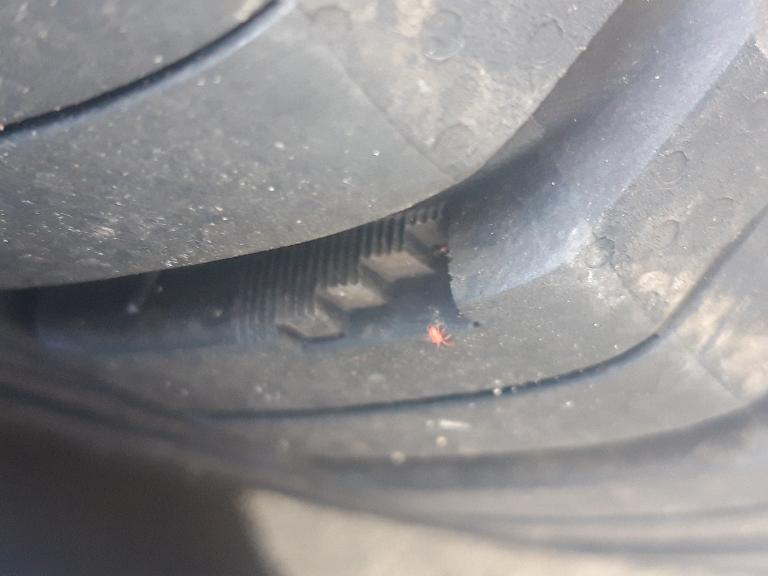temoin:80: (221, 194, 496, 374)
